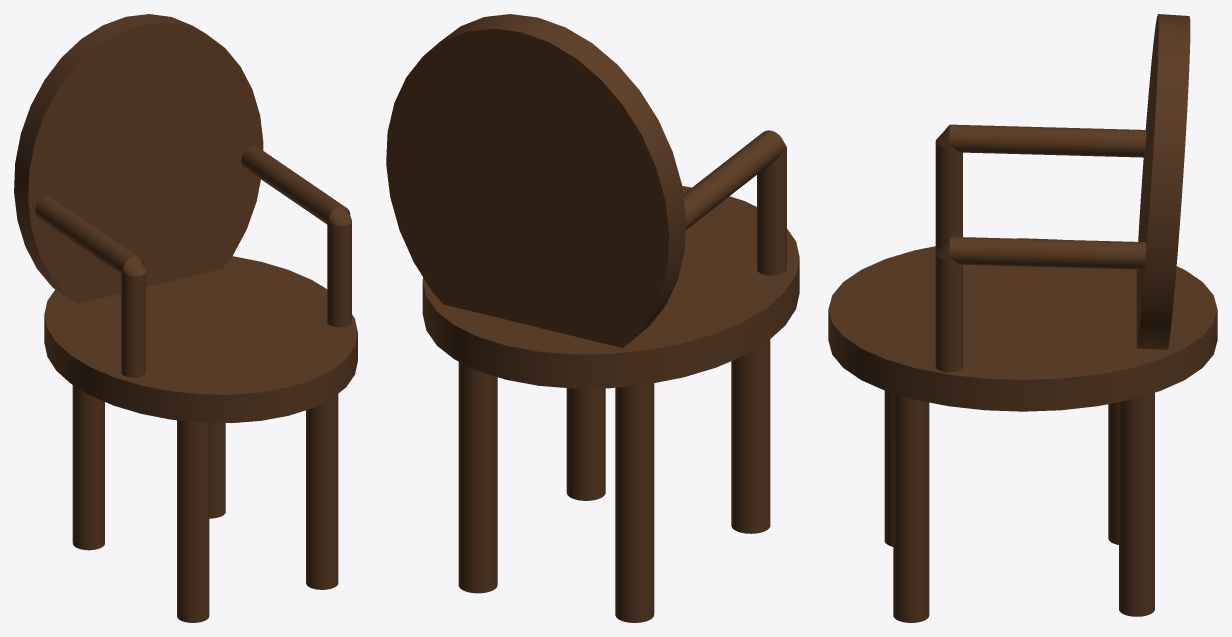
The model's file is terrasstoelblend (1).fbx.
3 views of the same model, side by side, from view 1: azimuth 30°, elevation 25°; view 2: azimuth 150°, elevation 25°; view 3: azimuth 270°, elevation 25° (orthographic). The views are drawn at different scales.
Visible parts, largest first — view 1: Circle.001, Circle, Cylinder, Cylinder.003, Cylinder.006, Cylinder.004, Cylinder.001, Cylinder.002; view 2: Circle.001, Circle, Cylinder.001, Cylinder.002, Cylinder, Cylinder.006, Cylinder.003; view 3: Circle, Circle.001, Cylinder.004, Cylinder.006, Cylinder.003, Cylinder.002, Cylinder.001, Cylinder.
Boxes of the visible parts, x1,y1,x2,y2 form: Circle.001: (14,14,263,303); Circle: (44,256,357,423); Cylinder: (177,420,209,622); Cylinder.003: (306,394,338,589); Cylinder.006: (35,196,145,377); Cylinder.004: (241,146,351,327); Cylinder.001: (72,385,104,550); Cylinder.002: (209,423,225,518); Circle.001: (386,14,686,347); Circle: (422,186,799,388); Cylinder.001: (615,383,654,622); Cylinder.002: (458,362,497,593); Cylinder: (731,339,770,533); Cylinder.006: (683,130,786,275); Cylinder.003: (566,388,605,500); Circle: (828,238,1217,411); Circle.001: (1136,14,1190,349); Cylinder.004: (935,236,1146,372); Cylinder.006: (935,124,1146,252); Cylinder.003: (893,393,929,622); Cylinder.002: (1119,392,1154,616); Cylinder.001: (1108,402,1118,544); Cylinder: (884,391,893,546).
Size of the model in its own units: 263 by 476 by 305.
